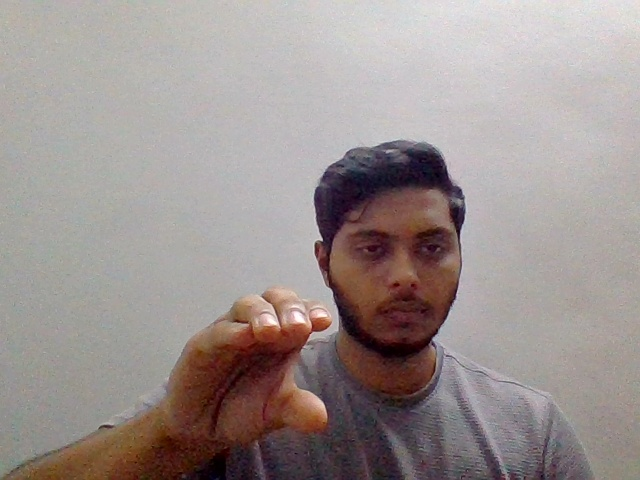No: (153, 279, 341, 468)
